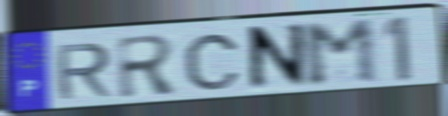1: (381, 14, 414, 85)
C: (181, 32, 243, 92)
M: (299, 17, 382, 90)
N: (246, 20, 308, 95)
R: (114, 32, 182, 102), (52, 40, 113, 102)
